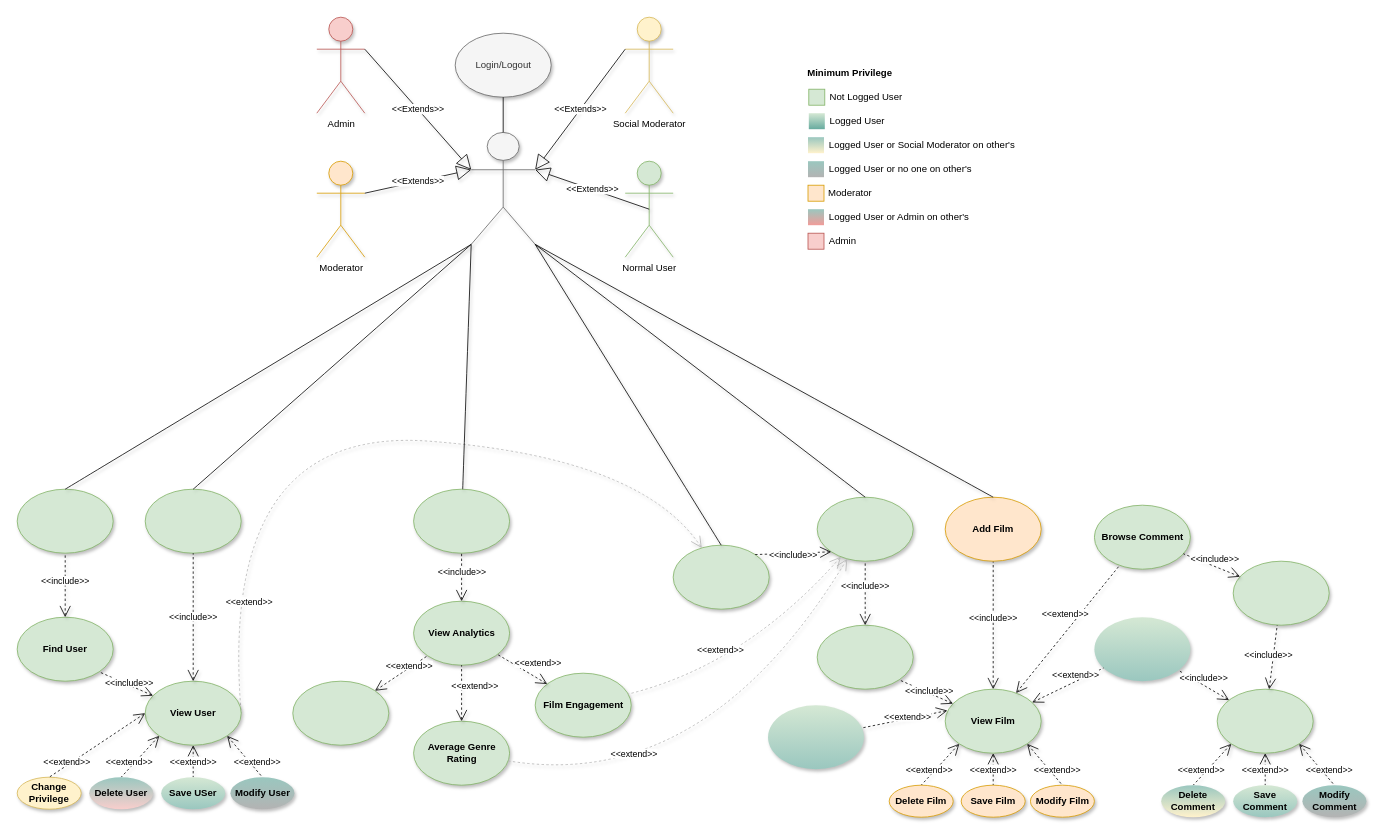
This 1385x837 diagram has some shape labels left out. The centre of each missing label's shape, as x and y in pixels:
"Add Comment" belongs at pixel 1143 650.
"Add/Remove Favorite" belongs at pixel 816 738.
"Browse Analytics" belongs at pixel 462 522.
"Browse Favorite" belongs at pixel 721 578.
"Browse Film" belongs at pixel 865 530.
"Browse User" belongs at pixel 65 522.
"Find Comment" belongs at pixel 1281 594.
"Find Film" belongs at pixel 865 658.
"Register" belongs at pixel 193 522.
"User" belongs at pixel 503 189.
"User Rating" belongs at pixel 341 714.
"View Comment" belongs at pixel 1265 722.
